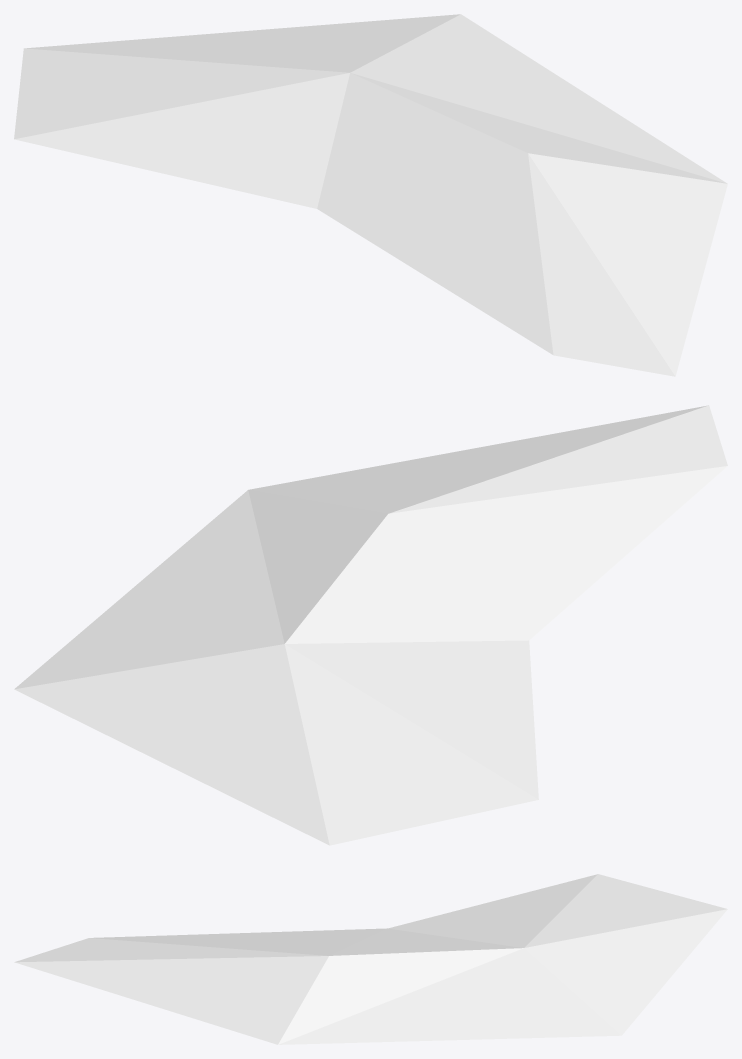
Rendered from SM_Env_Flowers_01.glb.
3 renders of one model, top to bottom at view 1: azimuth 30°, elevation 25°; view 2: azimuth 150°, elevation 25°; view 3: azimuth 270°, elevation 25°, orthographic. The views are drawn at different scales.
Visible parts, largest first — view 1: SM_Env_Flowers_01; view 2: SM_Env_Flowers_01; view 3: SM_Env_Flowers_01.
Boxes of the visible parts, <box> form: SM_Env_Flowers_01: <box>14,14,727,376</box>; SM_Env_Flowers_01: <box>14,405,727,845</box>; SM_Env_Flowers_01: <box>14,874,727,1044</box>.
Bounding box in the file's own units: 0.4176 × 0.0362 × 0.7374.
1 material, 1 textured.
